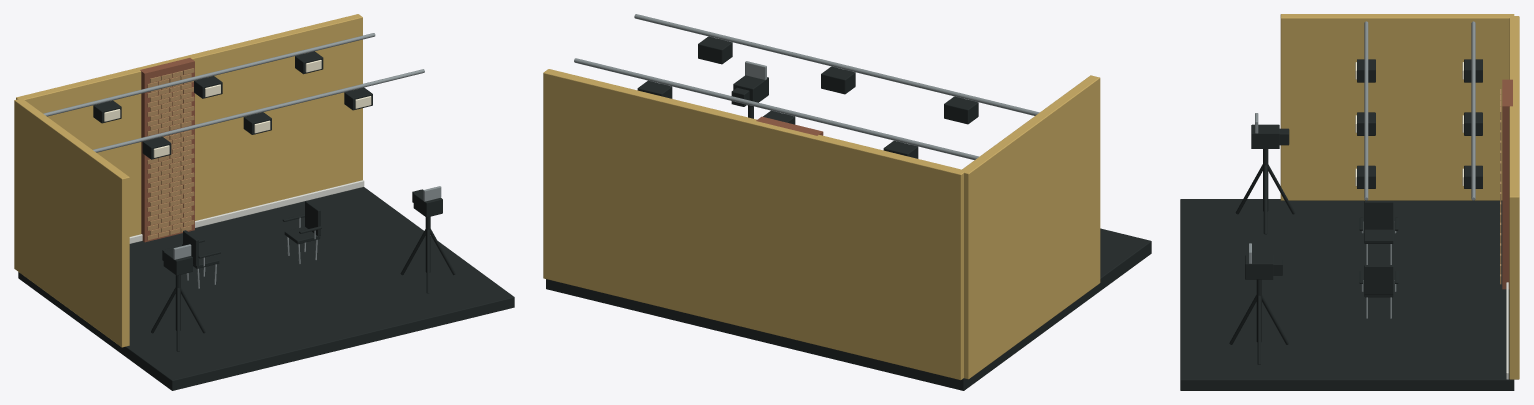
The model's file is pel-interior-303d0608cb95.glb.
The picture shows the model from 3 angles, left to right: view 1: azimuth 30°, elevation 25°; view 2: azimuth 150°, elevation 25°; view 3: azimuth 270°, elevation 25°; orthographic projection. The views are drawn at different scales.
Parts seen in each view (by area): view 1: PEL.001; view 2: PEL.001; view 3: PEL.001.
Boxes of the visible parts, x1,y1,x2,y2 form: PEL.001: [14, 14, 514, 390]; PEL.001: [543, 14, 1151, 390]; PEL.001: [1180, 14, 1519, 390].
Size of the model in its own units: 6.88 by 3.4 by 5.38.
